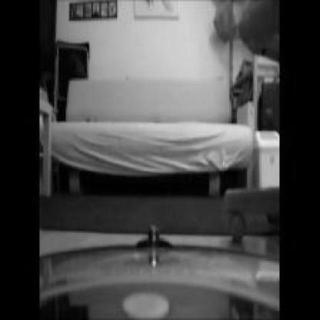other: (226, 92, 270, 182)
